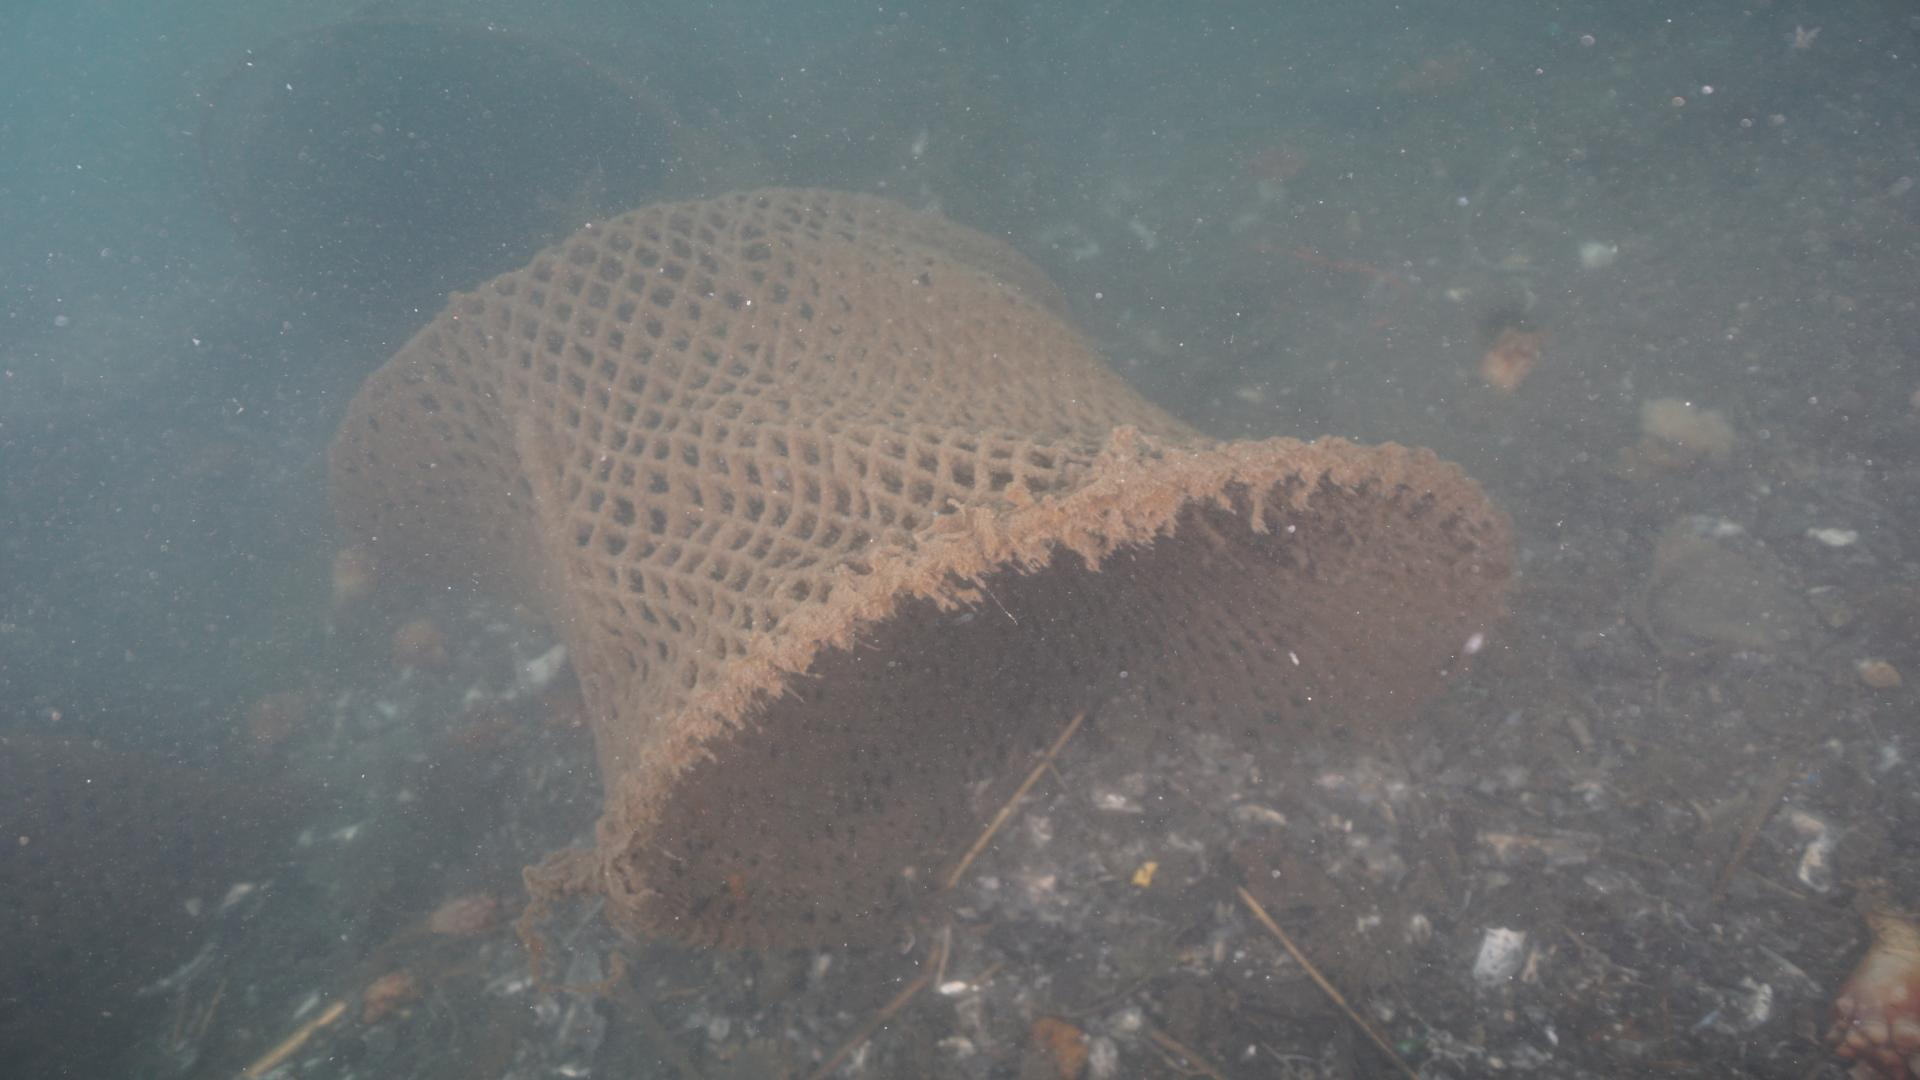circular fish trap: (324, 178, 1509, 963)
